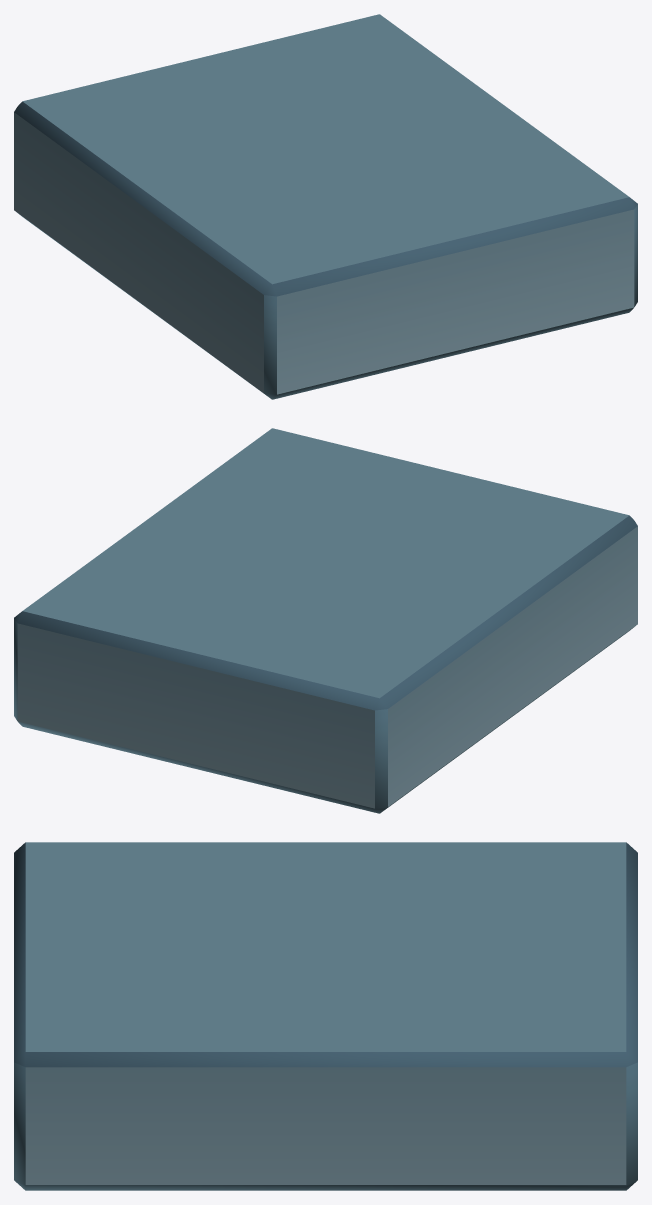
Rendered from comicbox_open_comicbox_lid.glb.
3 views of the same model, one above another, from view 1: azimuth 30°, elevation 25°; view 2: azimuth 150°, elevation 25°; view 3: azimuth 270°, elevation 25° (orthographic). The views are drawn at different scales.
Parts seen in each view (by area): view 1: comicbox_lid; view 2: comicbox_lid; view 3: comicbox_lid.
Boxes of the visible parts, x1=… form: comicbox_lid: x1=14, y1=14, x2=637, y2=399; comicbox_lid: x1=14, y1=428, x2=637, y2=813; comicbox_lid: x1=14, y1=842, x2=637, y2=1190.
Bounding box in the file's own units: 0.7188 × 0.2122 × 0.8641.
Materials: 1 (1 with a texture image).
